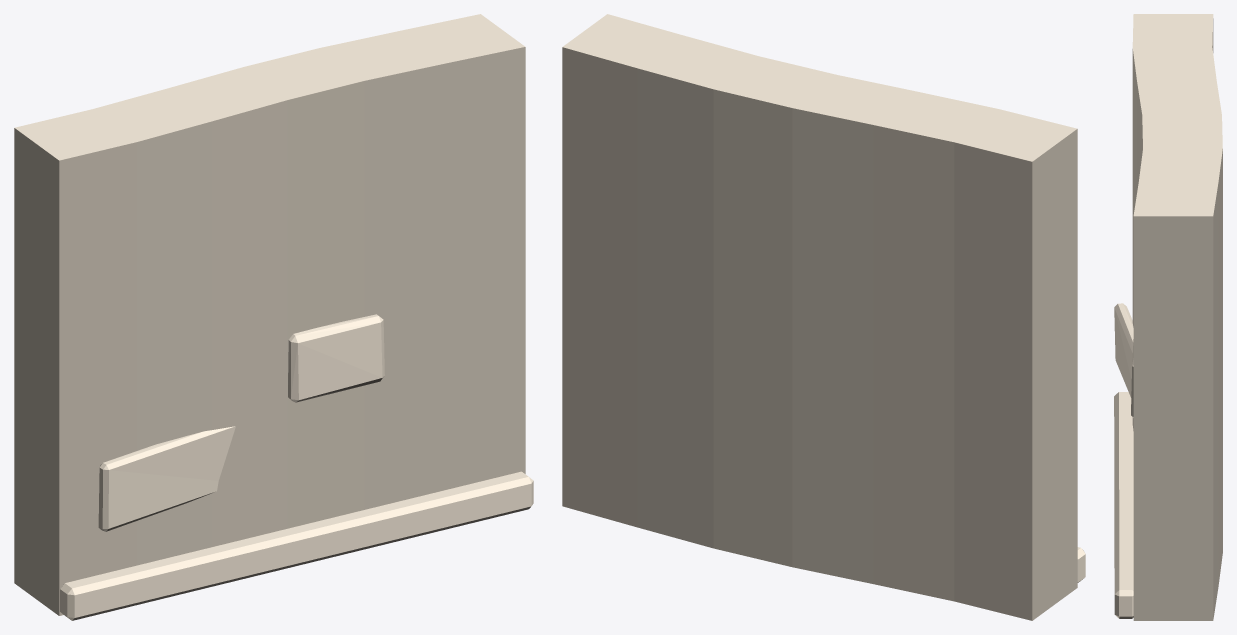
Rendered from SM_VK_Def_StoneUp.fbx.
3 renders of one model, left to right at view 1: azimuth 30°, elevation 25°; view 2: azimuth 150°, elevation 25°; view 3: azimuth 270°, elevation 25°, orthographic. The views are drawn at different scales.
Visible parts, largest first — view 1: SM_VK_Def_StoneUp.001; view 2: SM_VK_Def_StoneUp.001; view 3: SM_VK_Def_StoneUp.001.
Boxes of the visible parts, box(x1,y1,x2,y2) form: SM_VK_Def_StoneUp.001: box(14, 14, 533, 620); SM_VK_Def_StoneUp.001: box(562, 14, 1085, 620); SM_VK_Def_StoneUp.001: box(1114, 14, 1222, 620).
Bounding box in the file's own units: 3 × 2.8 × 0.6813.
